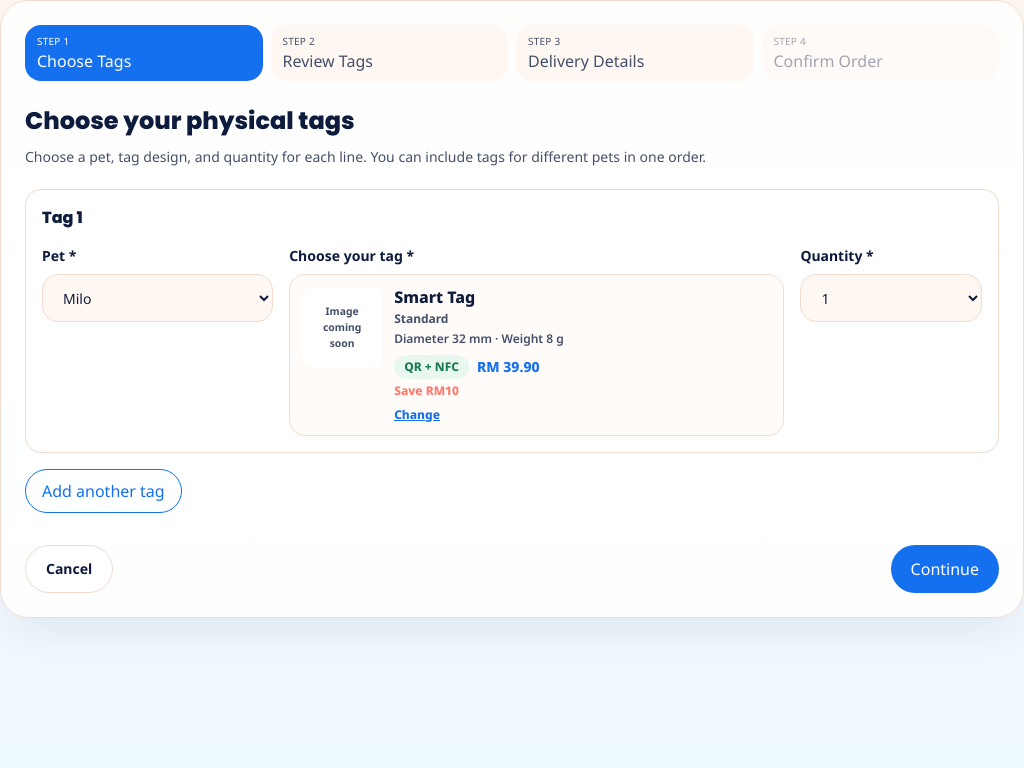
it: TagOrderFlow catalog pricing › updates the features shown when the customer picks a different option
What coordinates should you click on to do the following:
click the button with aria-label "Change tag for Tag 1: Smart Tag, Standard, QR + NFC"
I would click on:
 (537, 355)
Its box is x1=289 y1=274 x2=784 y2=436.
(page scrolled)
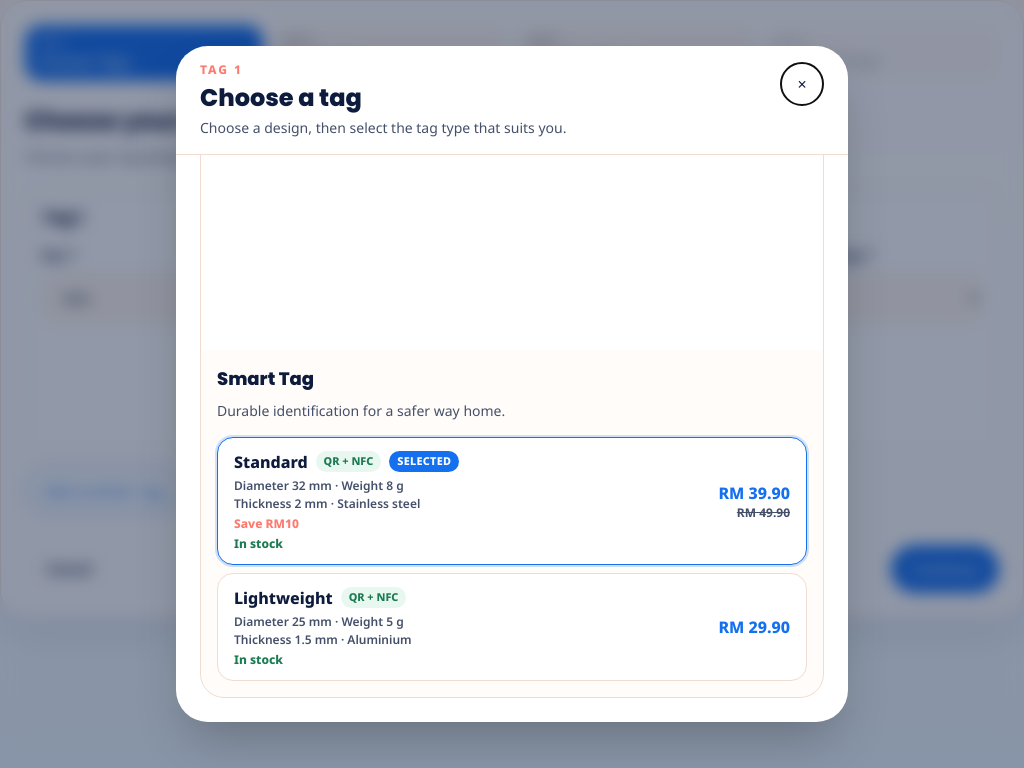
What coordinates should you click on to do the following:
click the radio button with aria-label "Smart Tag, Lightweight, QR + NFC, RM 29.90, In stock, Diamet"
I would click on:
 (283, 598)
Its box is x1=217 y1=573 x2=807 y2=681.
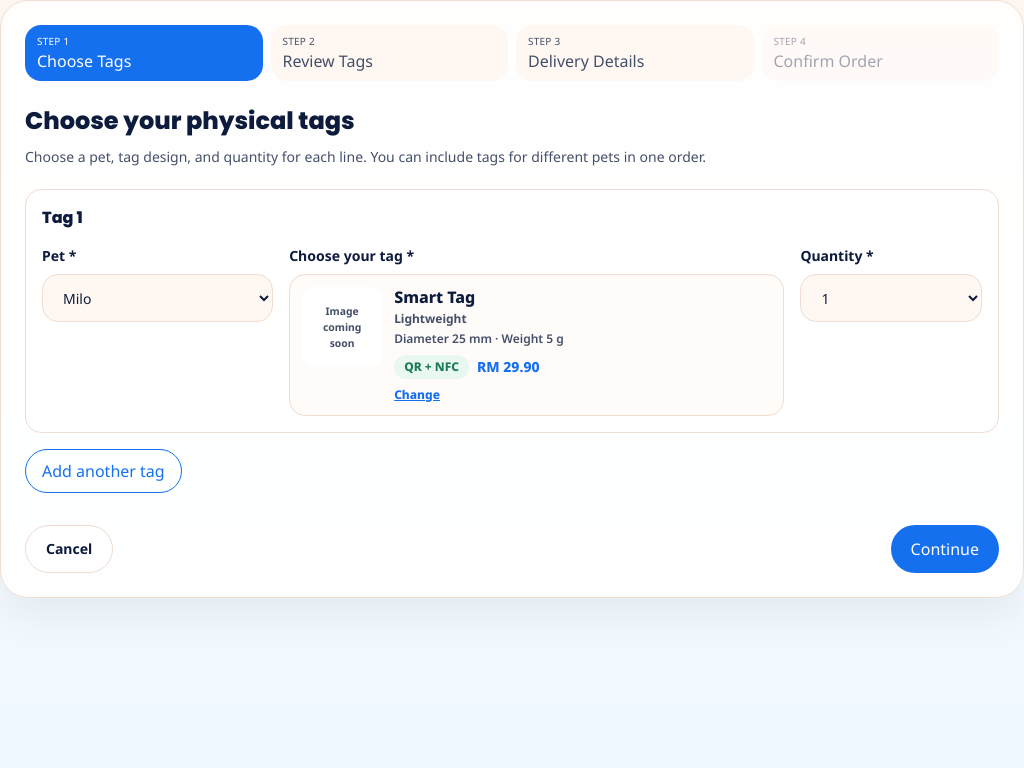
Check: the button with aria-label "Change tag for Tag 1: Smart Tag, Lightweight, QR + NFC, RM 2" is shown, box x1=289 y1=274 x2=784 y2=416
Check: the button "Standard" is gone
